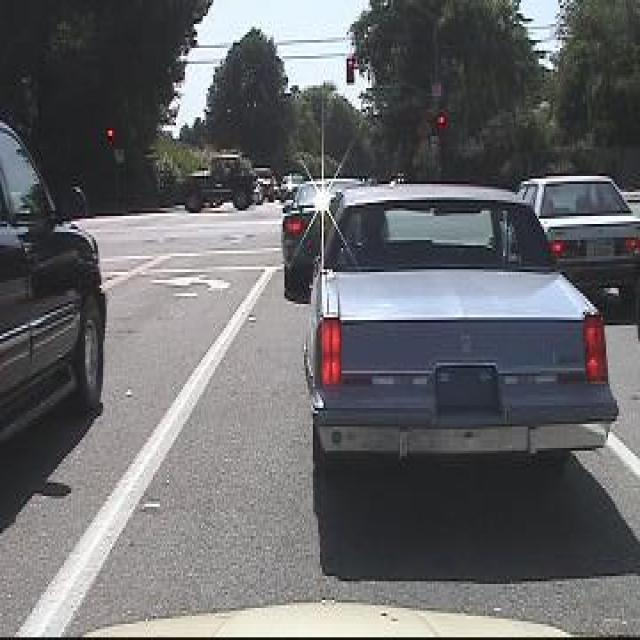car_back: (293, 178, 619, 534), (506, 164, 640, 320)
